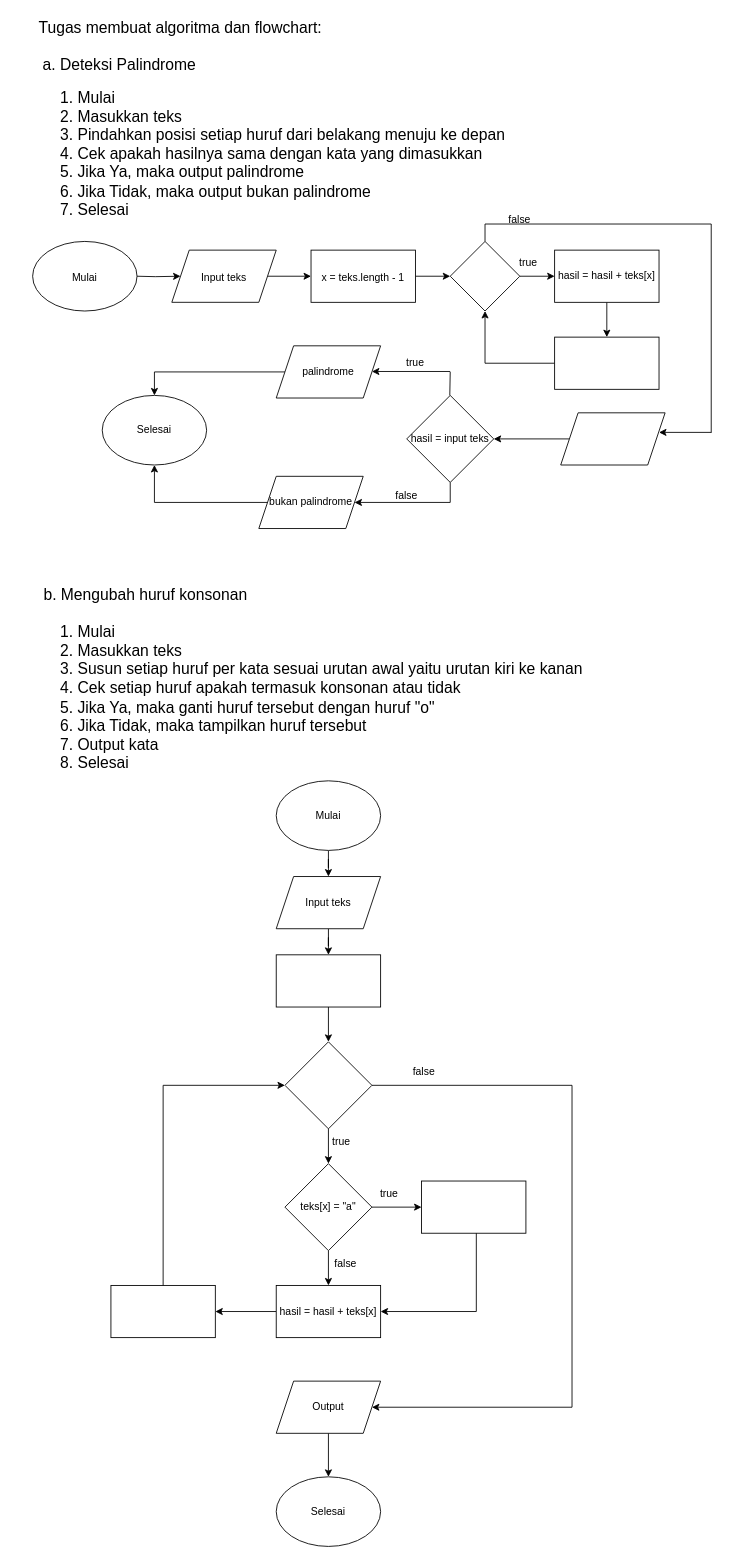
Image size: 733x1562. Some labels were removed from this diagram. Each missing label, with the centre of its shape:
hasil: the point at 612,438
teks[x] = "o": the point at 473,1206
x < length.teks: the point at 328,1085
x = 0: the point at 328,980
x = x + 1: the point at 162,1311
x = x - 1: the point at 606,362
x >= 0: the point at 484,276
